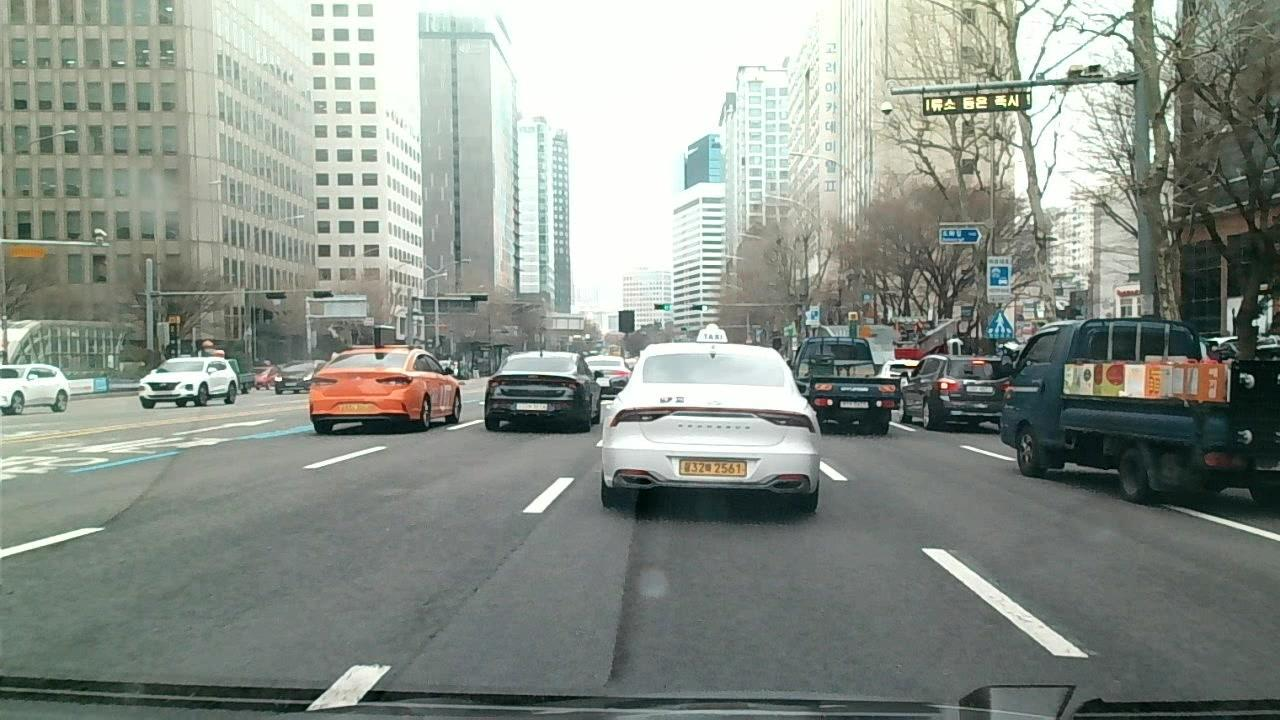vcrack: (390, 519, 535, 675), (601, 505, 640, 683)
